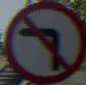Don't turn left: (3, 14, 73, 72)
